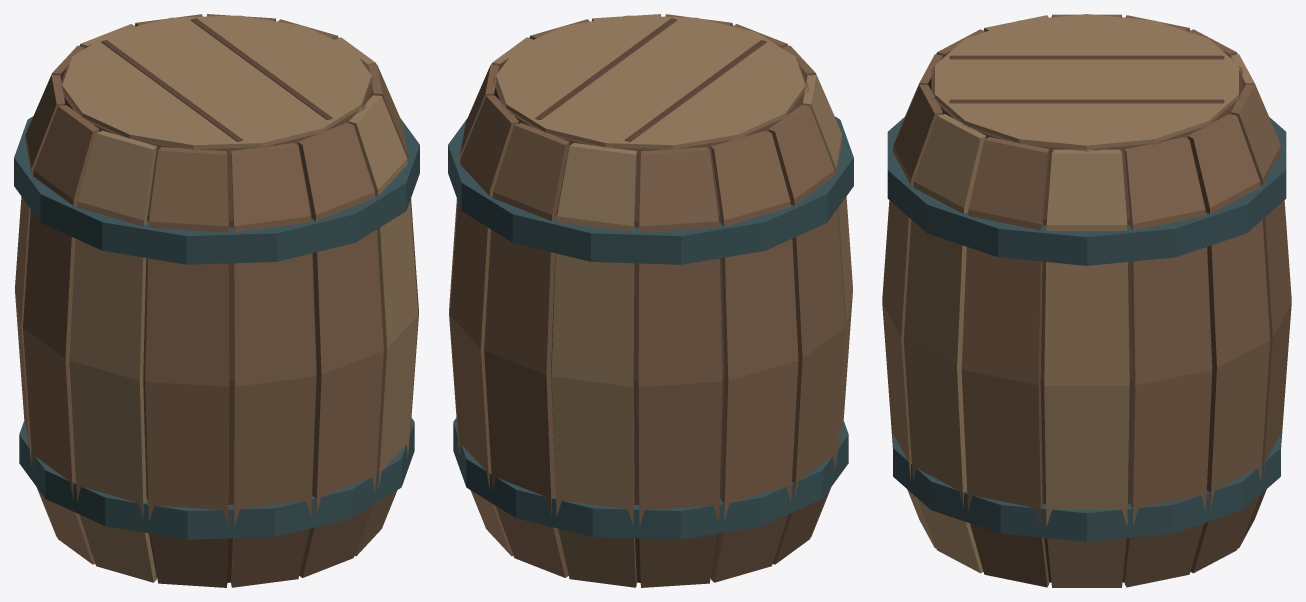
The model's file is barrel.glb.
3 renders of one model, left to right at view 1: azimuth 30°, elevation 25°; view 2: azimuth 150°, elevation 25°; view 3: azimuth 270°, elevation 25°, orthographic.
Visible parts, largest first — view 1: barrel__body; view 2: barrel__body; view 3: barrel__body.
Part boxes in pixels (box(x1,y1,x2,y2)): barrel__body: box(14, 14, 419, 587); barrel__body: box(448, 14, 853, 587); barrel__body: box(882, 14, 1291, 587).
Size of the model in its own units: 0.4515 by 0.536 by 0.4526.
